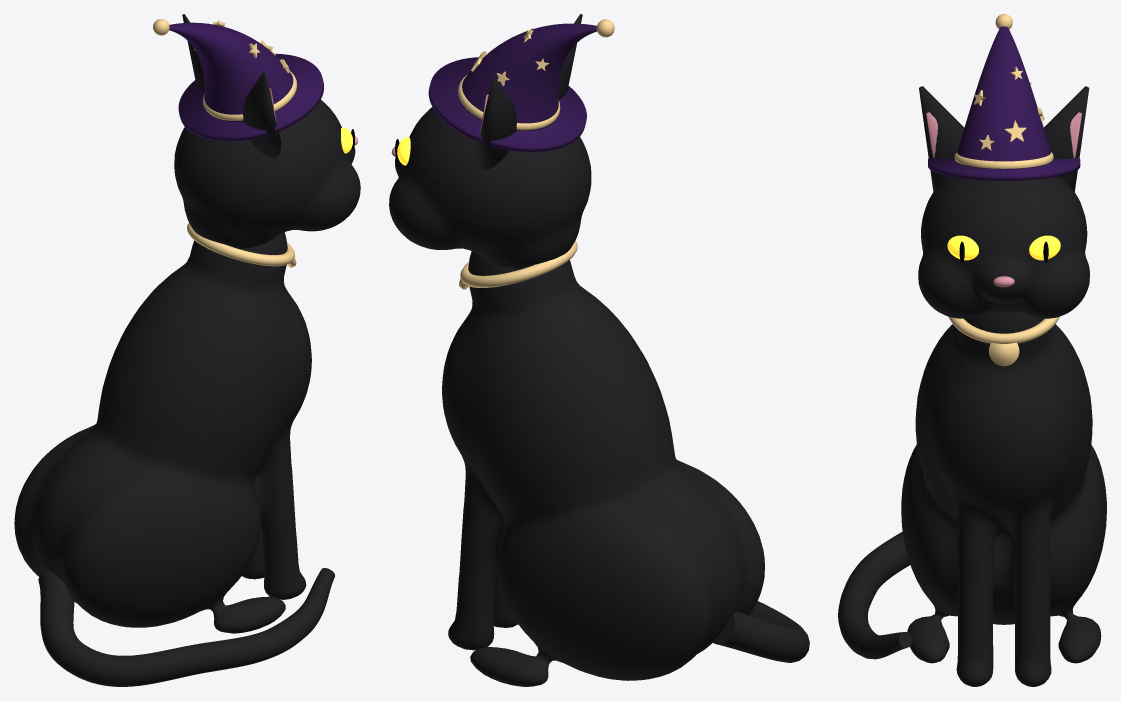
The model's file is tommy.glb.
The picture shows the model from 3 angles, left to right: view 1: azimuth 30°, elevation 25°; view 2: azimuth 150°, elevation 25°; view 3: azimuth 270°, elevation 25°; orthographic projection. The views are drawn at different scales.
Visible parts, largest first — view 1: Body, HeadMesh, TailMesh, HatCone, Cylinder, Ear.001, Collar, Torus; view 2: Body, HeadMesh, HatCone, Cylinder, TailMesh, Ear, Collar, Torus; view 3: Body, HeadMesh, HatCone, TailMesh, Cylinder, Ear.001, Ear, Collar, Torus, Tag, Eye, Eye.001.
Part boxes in pixels (<box>): Body: <box>14,232,311,633</box>; HeadMesh: <box>174,99,360,248</box>; TailMesh: <box>38,568,334,686</box>; HatCone: <box>169,22,297,121</box>; Cylinder: <box>178,53,323,141</box>; Ear.001: <box>242,72,281,158</box>; Collar: <box>187,223,294,266</box>; Torus: <box>203,71,296,120</box>; Body: <box>442,251,764,686</box>; HeadMesh: <box>389,107,591,268</box>; HatCone: <box>457,23,596,130</box>; Cylinder: <box>428,57,586,152</box>; TailMesh: <box>712,601,809,662</box>; Ear: <box>475,77,516,170</box>; Collar: <box>460,241,577,287</box>; Torus: <box>458,74,560,130</box>; Body: <box>901,311,1106,686</box>; HeadMesh: <box>918,176,1089,318</box>; HatCone: <box>955,26,1053,169</box>; TailMesh: <box>838,531,912,659</box>; Cylinder: <box>928,157,1080,180</box>; Ear.001: <box>919,86,964,191</box>; Ear: <box>1044,86,1089,191</box>; Collar: <box>948,316,1059,343</box>; Torus: <box>954,152,1053,168</box>; Tag: <box>989,342,1019,366</box>; Eye: <box>1029,235,1060,260</box>; Eye.001: <box>947,235,978,260</box>.
Bounding box in the file's own units: 0.9099 × 1.52 × 0.6012.
